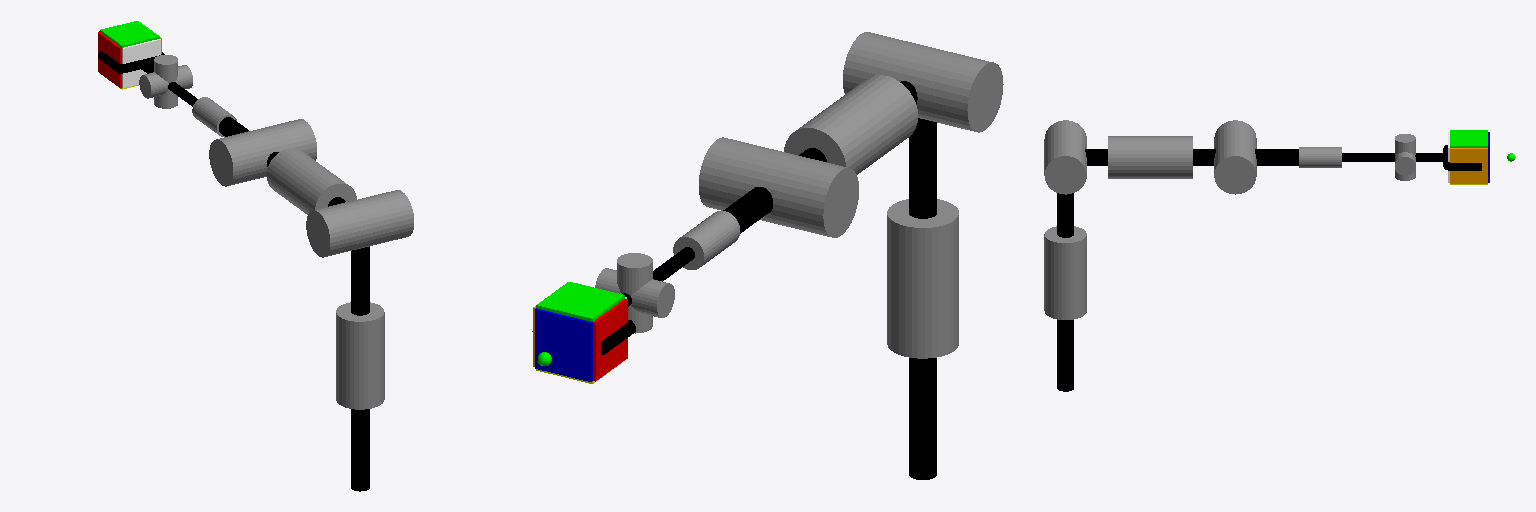
--- What the picture shows (computed from the rendered views, not written in the file) ---
3 views of the same robot in one strip: view 1: azimuth 30°, elevation 25°; view 2: azimuth 150°, elevation 25°; view 3: azimuth 270°, elevation 25° (orthographic).
Robot: SevenDOF — 38 links, 37 joints (7 continuous, 30 fixed); root link world; default pose: all joints at 0.
Links seen in each view (by area): view 1: motor2, motor1, motor4, motor3, mount1, mount2, cube-up, cube-back, motor6, motor7, motor5, cube-left; view 2: motor1, motor4, motor2, motor3, mount1, cube-front, mount2, motor5, cube-up, cube-left, motor7, motor6 (+2 smaller); view 3: motor1, motor3, motor2, motor4, mount1, cube-right, motor5, mount2, mount5, cube-up.
Link boxes in pixels (x1=…): motor2: x1=306, y1=190, x2=413, y2=257; motor1: x1=336, y1=302, x2=384, y2=409; motor4: x1=209, y1=119, x2=316, y2=186; motor3: x1=267, y1=148, x2=356, y2=214; mount1: x1=351, y1=409, x2=369, y2=491; mount2: x1=351, y1=246, x2=369, y2=315; cube-up: x1=100, y1=21, x2=159, y2=47; cube-back: x1=122, y1=39, x2=160, y2=87; motor6: x1=154, y1=55, x2=177, y2=108; motor7: x1=139, y1=65, x2=192, y2=98; motor5: x1=192, y1=97, x2=236, y2=136; cube-left: x1=98, y1=32, x2=121, y2=87; motor1: x1=887, y1=199, x2=958, y2=358; motor4: x1=699, y1=137, x2=858, y2=237; motor2: x1=843, y1=32, x2=1003, y2=132; motor3: x1=784, y1=75, x2=917, y2=174; mount1: x1=909, y1=358, x2=936, y2=479; cube-front: x1=535, y1=308, x2=592, y2=381; mount2: x1=909, y1=118, x2=936, y2=218; motor5: x1=673, y1=211, x2=739, y2=269; cube-up: x1=536, y1=282, x2=624, y2=321; cube-left: x1=593, y1=299, x2=627, y2=381; motor7: x1=595, y1=268, x2=674, y2=317; motor6: x1=617, y1=253, x2=652, y2=333; motor1: x1=1044, y1=226, x2=1086, y2=319; motor3: x1=1108, y1=136, x2=1192, y2=178; motor2: x1=1044, y1=120, x2=1086, y2=194; motor4: x1=1214, y1=120, x2=1256, y2=194; mount1: x1=1057, y1=320, x2=1073, y2=391; cube-right: x1=1450, y1=148, x2=1487, y2=183; motor5: x1=1299, y1=147, x2=1341, y2=167; mount2: x1=1057, y1=193, x2=1073, y2=237; mount5: x1=1255, y1=149, x2=1298, y2=165; cube-up: x1=1450, y1=130, x2=1487, y2=147.
Bounding box of the posed robot: 0.2 × 1.11 × 0.6501 m (x, y, z).
Geometry: primitives only (box / cylinder / sphere), no mesh files.

The robot description file, URDF, robot "SevenDOF":
<?xml version="1.0"?>

<robot name="SevenDOF">
  
  <!-- *************************************************** -->
  <!-- ******************** Kinematics ******************* -->
  <!-- *************************************************** -->

  <link name="world"/>

  <joint name="theta1" type="continuous">
    <parent link="world"/>
    <child  link="link1"/>
    <origin xyz="0 0 0.6" rpy="0 0 0"/>
    <axis   xyz="0 0 1"/>
    <dynamics damping="5.0"/>
  </joint>

  <link name="link1"/>

  <joint name="theta2" type="continuous">
    <parent link="link1"/>
    <child  link="link2"/>
    <origin xyz="0 0 0" rpy="0 0 0"/>
    <axis   xyz="1 0 0"/>
    <dynamics damping="5.0"/>
  </joint>

  <link name="link2"/>

  <joint name="attach-shoulder" type="fixed">
    <parent link="link2"/>
    <child  link="shoulder"/>
  </joint>

  <link name="shoulder"/>

  <joint name="theta3" type="continuous">
    <parent link="link2"/>
    <child  link="link3"/>
    <origin xyz="0 0.4 0" rpy="0 0 0"/>
    <axis   xyz="0 1 0 "/>
    <dynamics damping="0.5"/>
  </joint>

  <link name="link3"/>

  <joint name="theta4" type="continuous">
    <parent link="link3"/>
    <child  link="link4"/>
    <origin xyz="0 0 0" rpy="0 0 0"/>
    <axis   xyz="1 0 0 "/>
    <dynamics damping="1.0"/>
  </joint>

  <link name="link4"/>

  <joint name="attach-elbow" type="fixed">
    <parent link="link4"/>
    <child  link="elbow"/>
  </joint>

  <link name="elbow"/>

  <joint name="theta5" type="continuous">
    <parent link="link4"/>
    <child  link="link5"/>
    <origin xyz="0 0.4 0" rpy="0 0 0"/>
    <axis   xyz="0 1 0"/>
    <dynamics damping="0.2"/>
  </joint>

  <link name="link5"/>

  <joint name="theta6" type="continuous">
    <parent link="link5"/>
    <child  link="link6"/>
    <origin xyz="0 0 0" rpy="0 0 0"/>
    <axis   xyz="0 0 1"/>
    <dynamics damping="0.2"/>
  </joint>

  <link name="link6"/>

  <joint name="theta7" type="continuous">
    <parent link="link6"/>
    <child  link="link7"/>
    <origin xyz="0 0 0" rpy="0 0 0"/>
    <axis   xyz="1 0 0"/>
    <dynamics damping="0.2"/>
  </joint>

  <link name="link7"/>

  <joint name="attach-wrist" type="fixed">
    <parent link="link7"/>
    <child  link="wrist"/>
  </joint>

  <link name="wrist"/>

  <joint name="final" type="fixed">
    <parent link="link7"/>
    <child  link="tip"/>
    <origin xyz="0 0.15 0" rpy="1.5708 0 3.1416"/>
  </joint>

  <link name="tip"/>

   <joint name="drawtip" type="fixed">
    <parent link="tip"/>
    <child  link="draw"/>
    <origin xyz="0 0 0.1" rpy="0 0 0"/>
  </joint>

  <link name="draw"/>


  <!-- *************************************************** -->
  <!-- ******************* RVIZ Colors ******************* -->
  <!-- *************************************************** -->

  <material name="white">    <color rgba="1.00 1.00 1.00 1"/>  </material>
  <material name="gray">     <color rgba="0.60 0.60 0.60 1"/>  </material>
  <material name="table">    <color rgba="0.85 0.77 0.77 1"/>  </material>
  <material name="black">    <color rgba="0.00 0.00 0.00 1"/>  </material>

  <material name="red">      <color rgba="1.00 0.00 0.00 1"/>  </material>
  <material name="green">    <color rgba="0.00 1.00 0.00 1"/>  </material>
  <material name="blue">     <color rgba="0.00 0.00 1.00 1"/>  </material>

  <material name="cyan">     <color rgba="0.00 1.00 1.00 1"/>  </material>
  <material name="magenta">  <color rgba="1.00 0.00 1.00 1"/>  </material>
  <material name="yellow">   <color rgba="1.00 1.00 0.00 1"/>  </material>

  <material name="orange">   <color rgba="1.00 0.65 0.00 1"/>  </material>


  <!-- *************************************************** -->
  <!-- ****** Building Blocks (Visual AND Inertial) ****** -->
  <!-- *************************************************** -->

  <!-- *** World-Fixed: Mount 1, Motor 1 *** -->

  <joint name="attach-mount1" type="fixed">
    <parent link="world"/>
    <child  link="mount1"/>
  </joint>
  <link name="mount1">
    <visual>
      <origin xyz="0 0 0.1" rpy="0 0 0"/>
      <geometry>
	<cylinder length="0.2" radius="0.02"/>
      </geometry>
      <material name="black"/>
    </visual>
    <collision>
      <origin xyz="0 0 0.1" rpy="0 0 0"/>
      <geometry>
	<cylinder length="0.2" radius="0.02"/>
      </geometry>
    </collision>
    <inertial>
      <origin xyz="0 0 0.1" rpy="0 0 0"/>
      <mass value="0.2"/>
      <inertia
        ixx="0.000687" ixy="0.0" ixz="0.0"
        iyy="0.000687" iyz="0.0"
        izz="0.000040"/>
    </inertial>
  </link>

  <joint name="attach-motor1" type="fixed">
    <parent link="world"/>
    <child  link="motor1"/>
  </joint>
  <link name="motor1">
    <visual>
      <origin xyz="0 0 0.3" rpy="0 0 0"/>
      <geometry>
	<cylinder length="0.2" radius="0.05"/>
      </geometry>
      <material name="gray"/>
    </visual>
    <collision>
      <origin xyz="0 0 0.3" rpy="0 0 0"/>
      <geometry>
	<cylinder length="0.2" radius="0.05"/>
      </geometry>
    </collision>
    <inertial>
      <origin xyz="0 0 0.3" rpy="0 0 0"/>
      <mass value="2.0"/>
      <inertia
        ixx="0.007917" ixy="0.0" ixz="0.0"
        iyy="0.007917" iyz="0.0"
        izz="0.002500"/>
    </inertial>
  </link>

  <!-- *** Motor 1 Output: Mount 2, Motor 2 *** -->

  <joint name="attach-mount2" type="fixed">
    <parent link="link1"/>
    <child  link="mount2"/>
  </joint>
  <link name="mount2">
    <visual>
      <origin xyz="0 0 -0.1" rpy="0 0 0"/>
      <geometry>
	<cylinder length="0.2" radius="0.02"/>
      </geometry>
      <material name="black"/>
    </visual>
    <collision>
      <origin xyz="0 0 -0.1" rpy="0 0 0"/>
      <geometry>
	<cylinder length="0.2" radius="0.02"/>
      </geometry>
    </collision>
    <inertial>
      <origin xyz="0 0 -0.1" rpy="0 0 0"/>
      <mass value="0.2"/>
      <inertia
        ixx="0.000687" ixy="0.0" ixz="0.0"
        iyy="0.000687" iyz="0.0"
        izz="1.000040"/>
    </inertial>
  </link>

  <joint name="attach-motor2" type="fixed">
    <parent link="link1"/>
    <child  link="motor2"/>
  </joint>
  <link name="motor2">
    <visual>
      <origin xyz="0 0 0" rpy="0 1.5708 0"/>
      <geometry>
	<cylinder length="0.2" radius="0.05"/>
      </geometry>
      <material name="gray"/>
    </visual>
    <collision>
      <origin xyz="0 0 0" rpy="0 1.5708 0"/>
      <geometry>
	<cylinder length="0.2" radius="0.05"/>
      </geometry>
    </collision>
    <inertial>
      <origin xyz="0 0 0" rpy="0 1.5708 0"/>
      <mass value="2.0"/>
      <inertia
        ixx="0.007917" ixy="0.0" ixz="0.0"
        iyy="0.007917" iyz="0.0"
        izz="0.002500"/>
    </inertial>
  </link>

  <!-- *** Motor 2 Output: Mount 3, Motor 3 *** -->

  <joint name="attach-mount3" type="fixed">
    <parent link="link2"/>
    <child  link="mount3"/>
  </joint>
  <link name="mount3">
    <visual>
      <origin xyz="0 0.1 0" rpy="1.5708 0 0"/>
      <geometry>
	<cylinder length="0.2" radius="0.02"/>
      </geometry>
      <material name="black"/>
    </visual>
    <collision>
      <origin xyz="0 0.1 0" rpy="1.5708 0 0"/>
      <geometry>
	<cylinder length="0.2" radius="0.02"/>
      </geometry>
    </collision>
    <inertial>
      <origin xyz="0 0.1 0" rpy="1.5708 0 0"/>
      <mass value="0.2"/>
      <inertia
        ixx="1.000687" ixy="0.0" ixz="0.0"
        iyy="0.000687" iyz="0.0"
        izz="0.000040"/>
    </inertial>
  </link>

  <joint name="attach-motor3" type="fixed">
    <parent link="link2"/>
    <child  link="motor3"/>
  </joint>
  <link name="motor3">
    <visual>
      <origin xyz="0 0.2 0" rpy="1.5708 0 0"/>
      <geometry>
	<cylinder length="0.2" radius="0.05"/>
      </geometry>
      <material name="gray"/>
    </visual>
    <collision>
      <origin xyz="0 0.2 0" rpy="1.5708 0 0"/>
      <geometry>
	<cylinder length="0.2" radius="0.05"/>
      </geometry>
    </collision>
    <inertial>
      <origin xyz="0 0.2 0" rpy="1.5708 0 0"/>
      <mass value="2.0"/>
      <inertia
        ixx="0.007917" ixy="0.0" ixz="0.0"
        iyy="0.007917" iyz="0.0"
        izz="0.002500"/>
    </inertial>
  </link>

  <!-- *** Motor 3 Output: Mount 4, Motor 4 *** -->

  <joint name="attach-mount4" type="fixed">
    <parent link="link3"/>
    <child  link="mount4"/>
  </joint>
  <link name="mount4">
    <visual>
      <origin xyz="0 -0.1 0" rpy="1.5708 0 0"/>
      <geometry>
	<cylinder length="0.2" radius="0.02"/>
      </geometry>
      <material name="black"/>
    </visual>
    <collision>
      <origin xyz="0 -0.1 0" rpy="1.5708 0 0"/>
      <geometry>
	<cylinder length="0.2" radius="0.02"/>
      </geometry>
    </collision>
    <inertial>
      <origin xyz="0 -0.1 0" rpy="1.5708 0 0"/>
      <mass value="0.2"/>
      <inertia
        ixx="0.000687" ixy="0.0" ixz="0.0"
        iyy="0.000687" iyz="0.0"
        izz="1.000040"/>
    </inertial>
  </link>

  <joint name="attach-motor4" type="fixed">
    <parent link="link3"/>
    <child  link="motor4"/>
  </joint>
  <link name="motor4">
    <visual>
      <origin xyz="0 0 0" rpy="0 1.5708 0"/>
      <geometry>
	<cylinder length="0.2" radius="0.05"/>
      </geometry>
      <material name="gray"/>
    </visual>
    <collision>
      <origin xyz="0 0 0" rpy="0 1.5708 0"/>
      <geometry>
	<cylinder length="0.2" radius="0.05"/>
      </geometry>
    </collision>
    <inertial>
      <origin xyz="0 0 0" rpy="0 1.5708 0"/>
      <mass value="2.0"/>
      <inertia
        ixx="0.007917" ixy="0.0" ixz="0.0"
        iyy="0.007917" iyz="0.0"
        izz="0.002500"/>
    </inertial>
  </link>

  <!-- *** Motor 4 Output: Mount 5, Motor 5 *** -->

  <joint name="attach-mount5" type="fixed">
    <parent link="link4"/>
    <child  link="mount5"/>
  </joint>
  <link name="mount5">
    <visual>
      <origin xyz="0 0.1 0" rpy="1.5708 0 0"/>
      <geometry>
	<cylinder length="0.2" radius="0.02"/>
      </geometry>
      <material name="black"/>
    </visual>
    <collision>
      <origin xyz="0 0.1 0" rpy="1.5708 0 0"/>
      <geometry>
	<cylinder length="0.2" radius="0.02"/>
      </geometry>
    </collision>
    <inertial>
      <origin xyz="0 0.1 0" rpy="1.5708 0 0"/>
      <mass value="0.2"/>
      <inertia
        ixx="0.500687" ixy="0.0" ixz="0.0"
        iyy="0.000687" iyz="0.0"
        izz="0.000040"/>
    </inertial>
  </link>

  <joint name="attach-motor5" type="fixed">
    <parent link="link4"/>
    <child  link="motor5"/>
  </joint>
  <link name="motor5">
    <visual>
      <origin xyz="0 0.2 0" rpy="1.5708 0 0"/>
      <geometry>
	<cylinder length="0.1" radius="0.025"/>
      </geometry>
      <material name="gray"/>
    </visual>
    <collision>
      <origin xyz="0 0.2 0" rpy="1.5708 0 0"/>
      <geometry>
	<cylinder length="0.1" radius="0.025"/>
      </geometry>
    </collision>
    <inertial>
      <origin xyz="0 0.2 0" rpy="1.5708 0 0"/>
      <mass value="1.0"/>
      <inertia
        ixx="0.000990" ixy="0.0" ixz="0.0"
        iyy="0.000990" iyz="0.0"
        izz="0.000313"/>
    </inertial>
  </link>

  <!-- *** Motor 5 Output: Mount 6, Motor 6 *** -->

  <joint name="attach-mount6" type="fixed">
    <parent link="link5"/>
    <child  link="mount6"/>
  </joint>
  <link name="mount6">
    <visual>
      <origin xyz="0 -0.1 0" rpy="1.5708 0 0"/>
      <geometry>
	<cylinder length="0.2" radius="0.01"/>
      </geometry>
      <material name="black"/>
    </visual>
    <collision>
      <origin xyz="0 -0.1 0" rpy="1.5708 0 0"/>
      <geometry>
	<cylinder length="0.2" radius="0.01"/>
      </geometry>
    </collision>
    <inertial>
      <origin xyz="0 -0.1 0" rpy="1.5708 0 0"/>
      <mass value="0.1"/>
      <inertia
        ixx="0.000336" ixy="0.0" ixz="0.0"
        iyy="0.000336" iyz="0.0"
        izz="0.500005"/>
    </inertial>
  </link>

  <joint name="attach-motor6" type="fixed">
    <parent link="link5"/>
    <child  link="motor6"/>
  </joint>
  <link name="motor6">
    <visual>
      <origin xyz="0 0 0" rpy="0 0 0"/>
      <geometry>
	<cylinder length="0.1" radius="0.025"/>
      </geometry>
      <material name="gray"/>
    </visual>
    <collision>
      <origin xyz="0 0 0" rpy="0 0 0"/>
      <geometry>
	<cylinder length="0.1" radius="0.025"/>
      </geometry>
    </collision>
    <inertial>
      <origin xyz="0 0 0" rpy="0 0 0"/>
      <mass value="1.0"/>
      <inertia
        ixx="0.000990" ixy="0.0" ixz="0.0"
        iyy="0.000990" iyz="0.0"
        izz="0.000313"/>
    </inertial>
  </link>

  <!-- *** Motor 6 Output: Motor 7 *** -->

  <joint name="attach-motor7" type="fixed">
    <parent link="link6"/>
    <child  link="motor7"/>
  </joint>
  <link name="motor7">
    <visual>
      <origin xyz="0 0 0" rpy="0 1.5708 0"/>
      <geometry>
	<cylinder length="0.1" radius="0.025"/>
      </geometry>
      <material name="gray"/>
    </visual>
    <collision>
      <origin xyz="0 0 0" rpy="0 1.5708 0"/>
      <geometry>
	<cylinder length="0.1" radius="0.025"/>
      </geometry>
    </collision>
    <inertial>
      <origin xyz="0 0 0" rpy="0 1.5708 0"/>
      <mass value="1.0"/>
      <inertia
        ixx="0.500990" ixy="0.0" ixz="0.0"
        iyy="0.000990" iyz="0.0"
        izz="0.000313"/>
    </inertial>
  </link>

  <!-- *** Motor 7 Output: Base, Palm, Fingers *** -->

  <joint name="attach-handbase" type="fixed">
    <parent link="link7"/>
    <child  link="handbase"/>
  </joint>
  <link name="handbase">
    <visual>
      <origin xyz="0 0.05 0" rpy="1.5708 0 0"/>
      <geometry>
	<cylinder length="0.1" radius="0.01"/>
      </geometry>
      <material name="black"/>
    </visual>
    <collision>
      <origin xyz="0 0.05 0" rpy="1.5708 0 0"/>
      <geometry>
	<cylinder length="0.1" radius="0.01"/>
      </geometry>
    </collision>
    <inertial>
      <origin xyz="0 0.05 0" rpy="1.5708 0 0"/>
      <mass value="0.05"/>
      <inertia
        ixx="0.000043" ixy="0.0" ixz="0.0"
        iyy="0.000043" iyz="0.0"
        izz="0.500003"/>
    </inertial>
  </link>

  <joint name="attach-palm" type="fixed">
    <parent link="link7"/>
    <child  link="palm"/>
  </joint>
  <link name="palm">
    <visual>
      <origin xyz="0 0.1 0" rpy="0 1.5708 0"/>
      <geometry>
	<cylinder length="0.1" radius="0.01"/>
      </geometry>
      <material name="black"/>
    </visual>
    <inertial>
      <origin xyz="0 0.1 0" rpy="0 1.5708 0"/>
      <mass value="0.05"/>
      <inertia
        ixx="0.000043" ixy="0.0" ixz="0.0"
        iyy="0.000043" iyz="0.0"
        izz="0.000003"/>
    </inertial>
  </link>

  <joint name="attach-leftfinger" type="fixed">
    <parent link="link7"/>
    <child  link="leftfinger"/>
  </joint>
  <link name="leftfinger">
    <visual>
      <origin xyz="-0.05 0.14 0" rpy="1.5708 0 0"/>
      <geometry>
	<cylinder length="0.08" radius="0.01"/>
      </geometry>
      <material name="black"/>
    </visual>
    <inertial>
      <origin xyz="-0.05 0.14 0" rpy="1.5708 0 0"/>
      <mass value="0.05"/>
      <inertia
        ixx="0.000022" ixy="0.0" ixz="0.0"
        iyy="0.000022" iyz="0.0"
        izz="0.000002"/>
    </inertial>
  </link>

  <joint name="attach-rightfinger" type="fixed">
    <parent link="link7"/>
    <child  link="rightfinger"/>
  </joint>
  <link name="rightfinger">
    <visual>
      <origin xyz="0.05 0.14 0" rpy="1.5708 0 0"/>
      <geometry>
	<cylinder length="0.08" radius="0.01"/>
      </geometry>
      <material name="black"/>
    </visual>
    <inertial>
      <origin xyz="0.05 0.14 0" rpy="1.5708 0 0"/>
      <mass value="0.05"/>
      <inertia
        ixx="0.000022" ixy="0.0" ixz="0.0"
        iyy="0.000022" iyz="0.0"
        izz="0.000002"/>
    </inertial>
  </link>

  <!-- *** Object: Six sides *** -->

  <joint name="attach-cube" type="fixed">
    <parent link="tip"/>
    <child  link="cube"/>
  </joint>
  <link name="cube">
    <collision>
      <origin xyz="0 0 0" rpy="0 0 0"/>
      <geometry>
	<box size="0.10 0.10 0.10"/>
      </geometry>
    </collision>
  </link>

  <joint name="attach-cube-up" type="fixed">
    <parent link="tip"/>
    <child  link="cube-up"/>
  </joint>
  <link name="cube-up">
    <visual>
      <origin xyz="0 0.04 0" rpy="0 0 0"/>
      <geometry>
	<box size="0.09 0.0202 0.09"/>
      </geometry>
      <material name="green"/>
    </visual>
    <inertial>
      <origin xyz="0 0 0" rpy="0 0 0"/>
      <mass value="0.16"/>
      <inertia
        ixx="0.000020" ixy="0.0" ixz="0.0"
        iyy="0.000020" iyz="0.0"
        izz="0.000020"/>
    </inertial>
  </link>

  <joint name="attach-cube-down" type="fixed">
    <parent link="tip"/>
    <child  link="cube-down"/>
  </joint>
  <link name="cube-down">
    <visual>
      <origin xyz="0 -0.04 0" rpy="0 0 0"/>
      <geometry>
	<box size="0.09 0.0202 0.09"/>
      </geometry>
      <material name="yellow"/>
    </visual>
    <inertial>
      <origin xyz="0 0 0" rpy="0 0 0"/>
      <mass value="0.16"/>
      <inertia
        ixx="0.000020" ixy="0.0" ixz="0.0"
        iyy="0.000020" iyz="0.0"
        izz="0.000020"/>
    </inertial>
  </link>

  <joint name="attach-cube-left" type="fixed">
    <parent link="tip"/>
    <child  link="cube-left"/>
  </joint>
  <link name="cube-left">
    <visual>
      <origin xyz="0.04 0 0" rpy="0 0 0"/>
      <geometry>
	<box size="0.0202 0.09 0.09"/>
      </geometry>
      <material name="red"/>
    </visual>
    <inertial>
      <origin xyz="0 0 0" rpy="0 0 0"/>
      <mass value="0.16"/>
      <inertia
        ixx="0.000020" ixy="0.0" ixz="0.0"
        iyy="0.000020" iyz="0.0"
        izz="0.000020"/>
    </inertial>
  </link>

  <joint name="attach-cube-right" type="fixed">
    <parent link="tip"/>
    <child  link="cube-right"/>
  </joint>
  <link name="cube-right">
    <visual>
      <origin xyz="-0.04 0 0" rpy="0 0 0"/>
      <geometry>
	<box size="0.0202 0.09 0.09"/>
      </geometry>
      <material name="orange"/>
    </visual>
    <inertial>
      <origin xyz="0 0 0" rpy="0 0 0"/>
      <mass value="0.16"/>
      <inertia
        ixx="0.000020" ixy="0.0" ixz="0.0"
        iyy="0.000020" iyz="0.0"
        izz="0.000020"/>
    </inertial>
  </link>

  <joint name="attach-cube-front" type="fixed">
    <parent link="tip"/>
    <child  link="cube-front"/>
  </joint>
  <link name="cube-front">
    <visual>
      <origin xyz="0 0 0.04" rpy="0 0 0"/>
      <geometry>
	<box size="0.09 0.09 0.0202"/>
      </geometry>
      <material name="blue"/>
    </visual>
    <inertial>
      <origin xyz="0 0 0" rpy="0 0 0"/>
      <mass value="0.16"/>
      <inertia
        ixx="0.000020" ixy="0.0" ixz="0.0"
        iyy="0.000020" iyz="0.0"
        izz="0.000020"/>
    </inertial>
  </link>

  <joint name="attach-cube-back" type="fixed">
    <parent link="tip"/>
    <child  link="cube-back"/>
  </joint>
  <link name="cube-back">
    <visual>
      <origin xyz="0 0 -0.04" rpy="0 0 0"/>
      <geometry>
	<box size="0.09 0.09 0.0202"/>
      </geometry>
      <material name="white"/>
    </visual>
    <inertial>
      <origin xyz="0 0 0" rpy="0 0 0"/>
      <mass value="0.16"/>
      <inertia
        ixx="0.000020" ixy="0.0" ixz="0.0"
        iyy="0.000020" iyz="0.0"
        izz="0.000020"/>
    </inertial>
  </link>

  <joint name="attach-sphere" type="fixed">
    <parent link="draw"/>
    <child  link="sphere"/>
  </joint>
  <link name="sphere">
    <visual>
      <origin xyz="0 0 0" rpy="0 0 0"/>
      <geometry>
	      <sphere radius="0.01"/>
      </geometry>
      <material name="green"/>
    </visual>
    <collision>
      <origin xyz="0 0 0" rpy="0 0 0"/>
      <geometry>
	      <sphere radius="0.01"/>
      </geometry>
      <material name="green"/>
    </collision>

  </link>


  <!-- *************************************************** -->
  <!-- ******************* Gazebo Colors ***************** -->
  <!-- *************************************************** -->

  <gazebo reference="motor1"> <material>Gazebo/Gray</material>  </gazebo>
  <gazebo reference="motor2"> <material>Gazebo/Gray</material>  </gazebo>
  <gazebo reference="motor3"> <material>Gazebo/Gray</material>  </gazebo>
  <gazebo reference="motor4"> <material>Gazebo/Gray</material>  </gazebo>
  <gazebo reference="motor5"> <material>Gazebo/Gray</material>  </gazebo>
  <gazebo reference="motor6"> <material>Gazebo/Gray</material>  </gazebo>
  <gazebo reference="motor7"> <material>Gazebo/Gray</material>  </gazebo>

  <gazebo reference="mount1">   <material>Gazebo/Black</material> </gazebo>
  <gazebo reference="mount2">   <material>Gazebo/Black</material> </gazebo>
  <gazebo reference="mount3">   <material>Gazebo/Black</material> </gazebo>
  <gazebo reference="mount4">   <material>Gazebo/Black</material> </gazebo>
  <gazebo reference="mount5">   <material>Gazebo/Black</material> </gazebo>
  <gazebo reference="mount6">   <material>Gazebo/Black</material> </gazebo>

  <gazebo reference="handbase">    <material>Gazebo/Black</material> </gazebo>
  <gazebo reference="palm">        <material>Gazebo/Black</material> </gazebo>
  <gazebo reference="leftfinger">  <material>Gazebo/Black</material> </gazebo>
  <gazebo reference="rightfinger"> <material>Gazebo/Black</material> </gazebo>

  <gazebo reference="cube-up">    <material>Gazebo/Green</material>  </gazebo>
  <gazebo reference="cube-down">  <material>Gazebo/Yellow</material> </gazebo>
  <gazebo reference="cube-left">  <material>Gazebo/Red</material>    </gazebo>
  <gazebo reference="cube-right"> <material>Gazebo/Orange</material> </gazebo>
  <gazebo reference="cube-front"> <material>Gazebo/Blue</material>   </gazebo>
  <gazebo reference="cube-back">  <material>Gazebo/White</material>  </gazebo>

  <gazebo reference="sphere">  <material>Gazebo/Green</material>  </gazebo>

  
  <!-- *************************************************** -->
  <!-- ************** Gazebo Transmissions *************** -->
  <!-- *************************************************** -->

  <transmission name="trans1">
    <type>transmission_interface/SimpleTransmission</type>
    <joint name="theta1">
      <hardwareInterface>hardware_interface/EffortJointInterface</hardwareInterface>
    </joint>
    <actuator name="motor1">
      <mechanicalReduction>1</mechanicalReduction>
      <hardwareInterface>hardware_interface/EffortJointInterface</hardwareInterface>
    </actuator>
  </transmission>
  
  <transmission name="trans2">
    <type>transmission_interface/SimpleTransmission</type>
    <joint name="theta2">
      <hardwareInterface>hardware_interface/EffortJointInterface</hardwareInterface>
    </joint>
    <actuator name="motor2">
      <mechanicalReduction>1</mechanicalReduction>
      <hardwareInterface>hardware_interface/EffortJointInterface</hardwareInterface>
    </actuator>
  </transmission>
  
  <transmission name="trans3">
    <type>transmission_interface/SimpleTransmission</type>
    <joint name="theta3">
      <hardwareInterface>hardware_interface/EffortJointInterface</hardwareInterface>
    </joint>
    <actuator name="motor3">
      <mechanicalReduction>1</mechanicalReduction>
      <hardwareInterface>hardware_interface/EffortJointInterface</hardwareInterface>
    </actuator>
  </transmission>
  
  <transmission name="trans4">
    <type>transmission_interface/SimpleTransmission</type>
    <joint name="theta4">
      <hardwareInterface>hardware_interface/EffortJointInterface</hardwareInterface>
    </joint>
    <actuator name="motor4">
      <mechanicalReduction>1</mechanicalReduction>
      <hardwareInterface>hardware_interface/EffortJointInterface</hardwareInterface>
    </actuator>
  </transmission>
  
  <transmission name="trans5">
    <type>transmission_interface/SimpleTransmission</type>
    <joint name="theta5">
      <hardwareInterface>hardware_interface/EffortJointInterface</hardwareInterface>
    </joint>
    <actuator name="motor5">
      <mechanicalReduction>1</mechanicalReduction>
      <hardwareInterface>hardware_interface/EffortJointInterface</hardwareInterface>
    </actuator>
  </transmission>
  
  <transmission name="trans6">
    <type>transmission_interface/SimpleTransmission</type>
    <joint name="theta6">
      <hardwareInterface>hardware_interface/EffortJointInterface</hardwareInterface>
    </joint>
    <actuator name="motor6">
      <mechanicalReduction>1</mechanicalReduction>
      <hardwareInterface>hardware_interface/EffortJointInterface</hardwareInterface>
    </actuator>
  </transmission>
  
  <transmission name="trans7">
    <type>transmission_interface/SimpleTransmission</type>
    <joint name="theta7">
      <hardwareInterface>hardware_interface/EffortJointInterface</hardwareInterface>
    </joint>
    <actuator name="motor7">
      <mechanicalReduction>1</mechanicalReduction>
      <hardwareInterface>hardware_interface/EffortJointInterface</hardwareInterface>
    </actuator>
  </transmission>

  
  <!-- *************************************************** -->
  <!-- *************** Gazebo Controllers **************** -->
  <!-- *************************************************** -->

  <gazebo>
    <plugin name="gazebo_ros_control" filename="libgazebo_ros_control.so">
      <robotNamespace>/sevendof</robotNamespace>
      <robotSimType>gazebo_ros_control/DefaultRobotHWSim</robotSimType>
    </plugin>
  </gazebo>

</robot>
